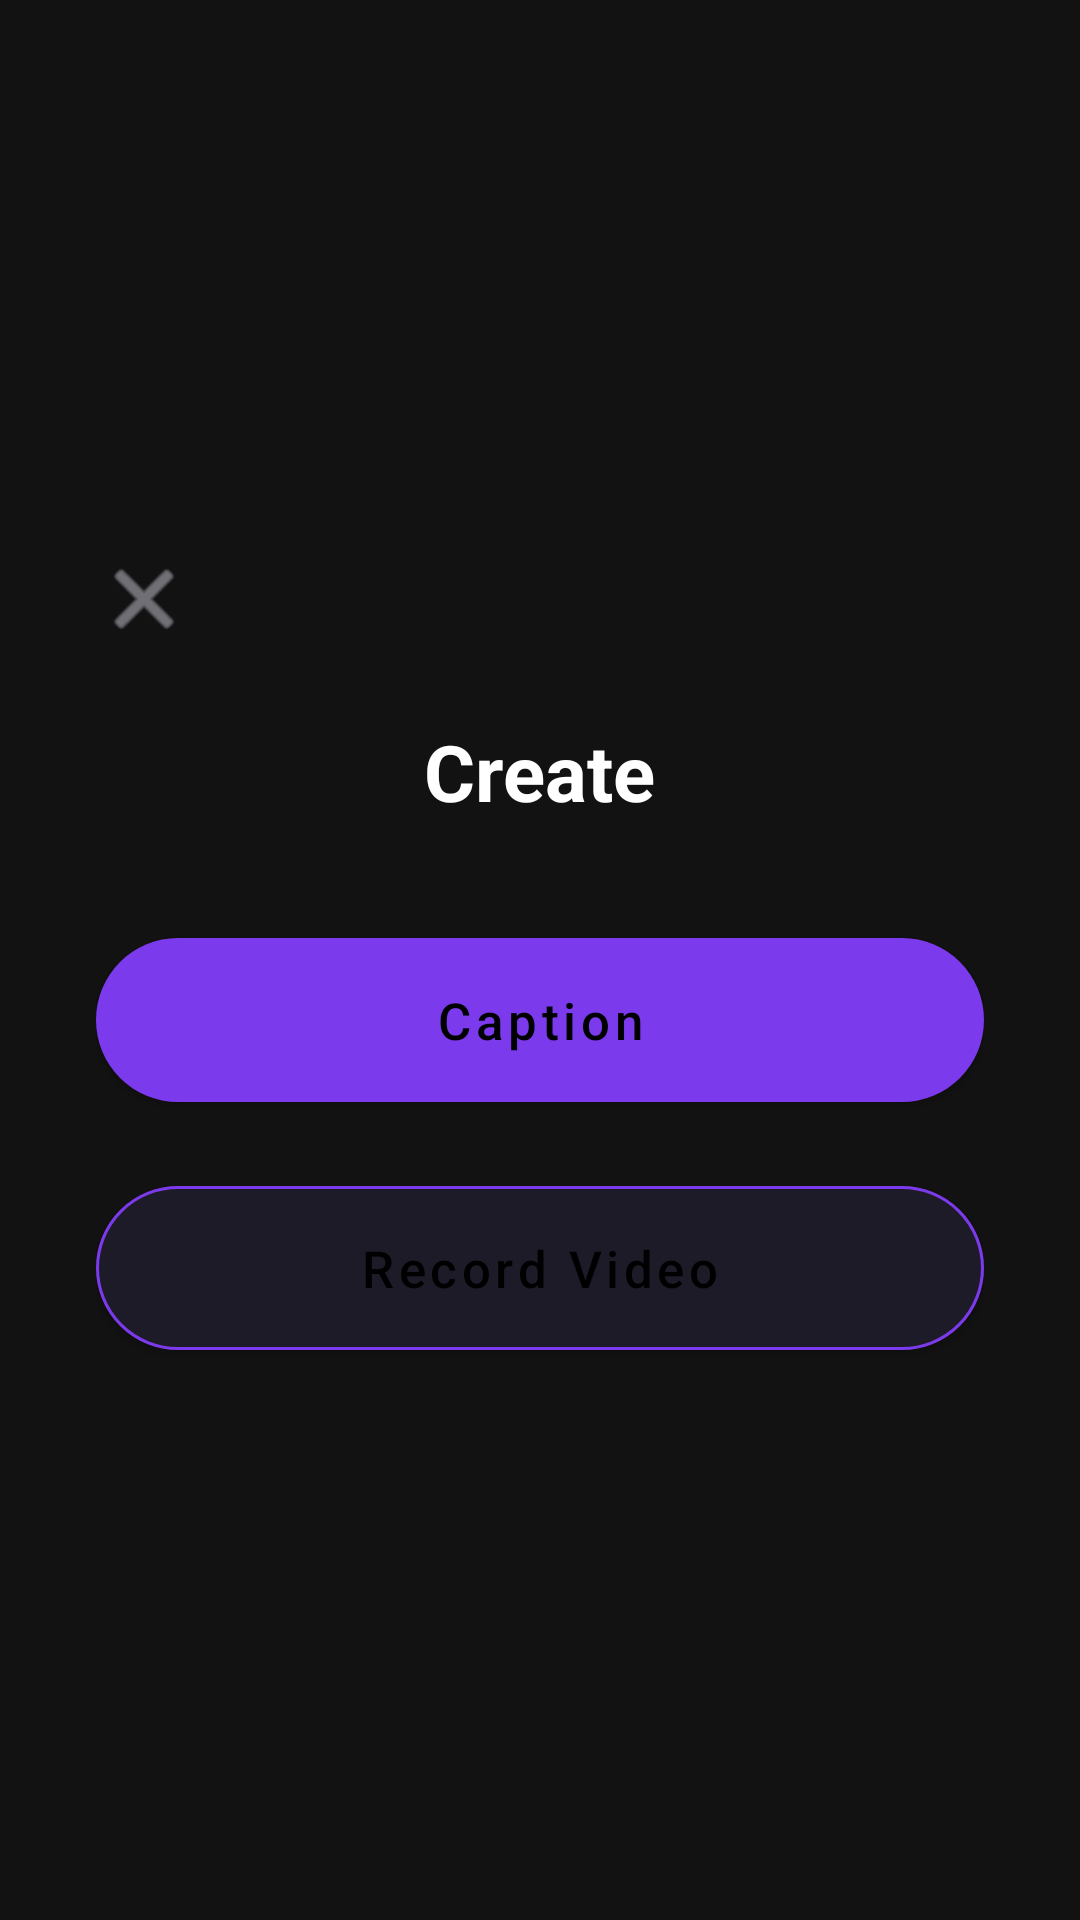

Screen size 1080x1920. Icon name, then its box in pixels as (x1, y1, x2, y2):
Close: (114, 569, 174, 629)
